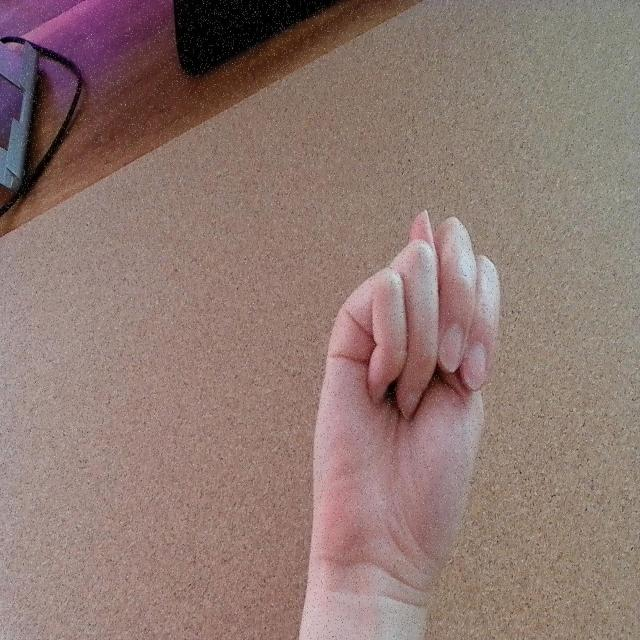N: (299, 203, 504, 588)
